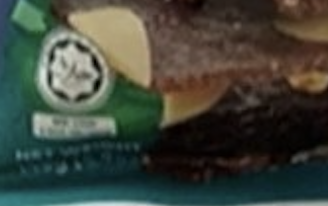halal: (52, 52, 95, 93)
